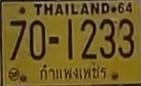0: (29, 19, 45, 59)
1: (67, 18, 72, 60)
2: (80, 19, 96, 58)
3: (118, 18, 134, 58), (99, 18, 114, 58)
7: (9, 19, 26, 60)
KPT: (38, 63, 109, 81)
